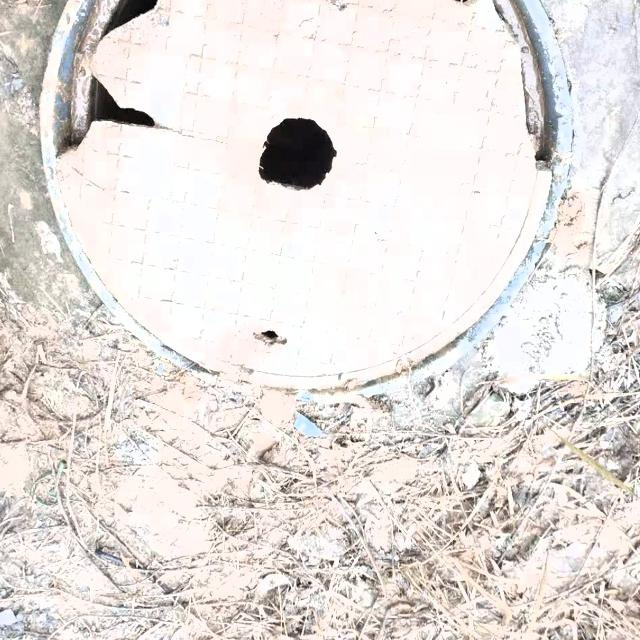broke: (32, 0, 573, 408)
